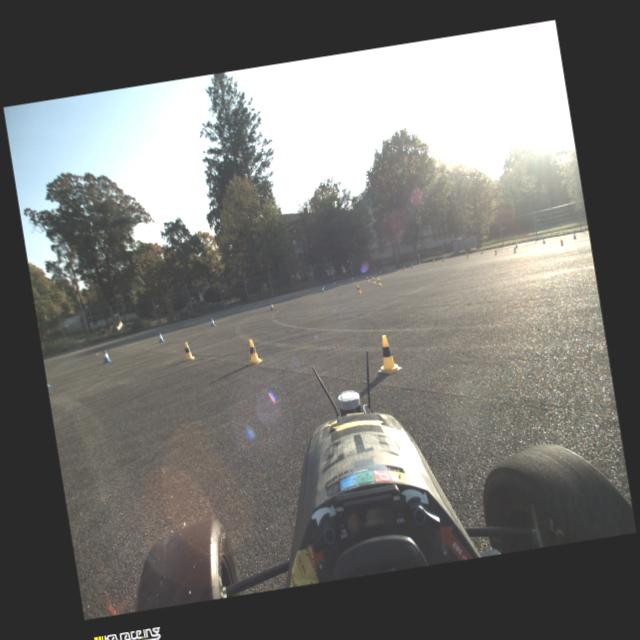blue_cone: (102, 350, 112, 362), (158, 332, 165, 342), (210, 318, 216, 327), (270, 302, 274, 311), (572, 232, 576, 240), (542, 238, 546, 245), (515, 242, 519, 248), (321, 287, 325, 292), (48, 382, 52, 387), (351, 276, 354, 282), (323, 285, 326, 290), (410, 263, 413, 268), (333, 282, 336, 286), (379, 270, 382, 274), (442, 256, 444, 262), (481, 250, 484, 254)
yellow_cone: (373, 334, 402, 376), (244, 338, 262, 366), (181, 341, 195, 360), (356, 284, 362, 294), (377, 277, 382, 286), (512, 246, 517, 254), (372, 276, 376, 284), (560, 238, 564, 246), (432, 260, 437, 266), (366, 276, 370, 283), (494, 248, 498, 254), (466, 254, 470, 258), (404, 266, 406, 271)
